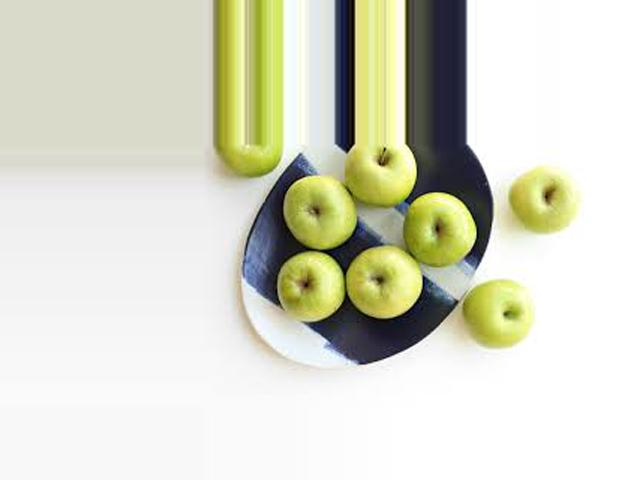apple: (276, 249, 348, 327)
